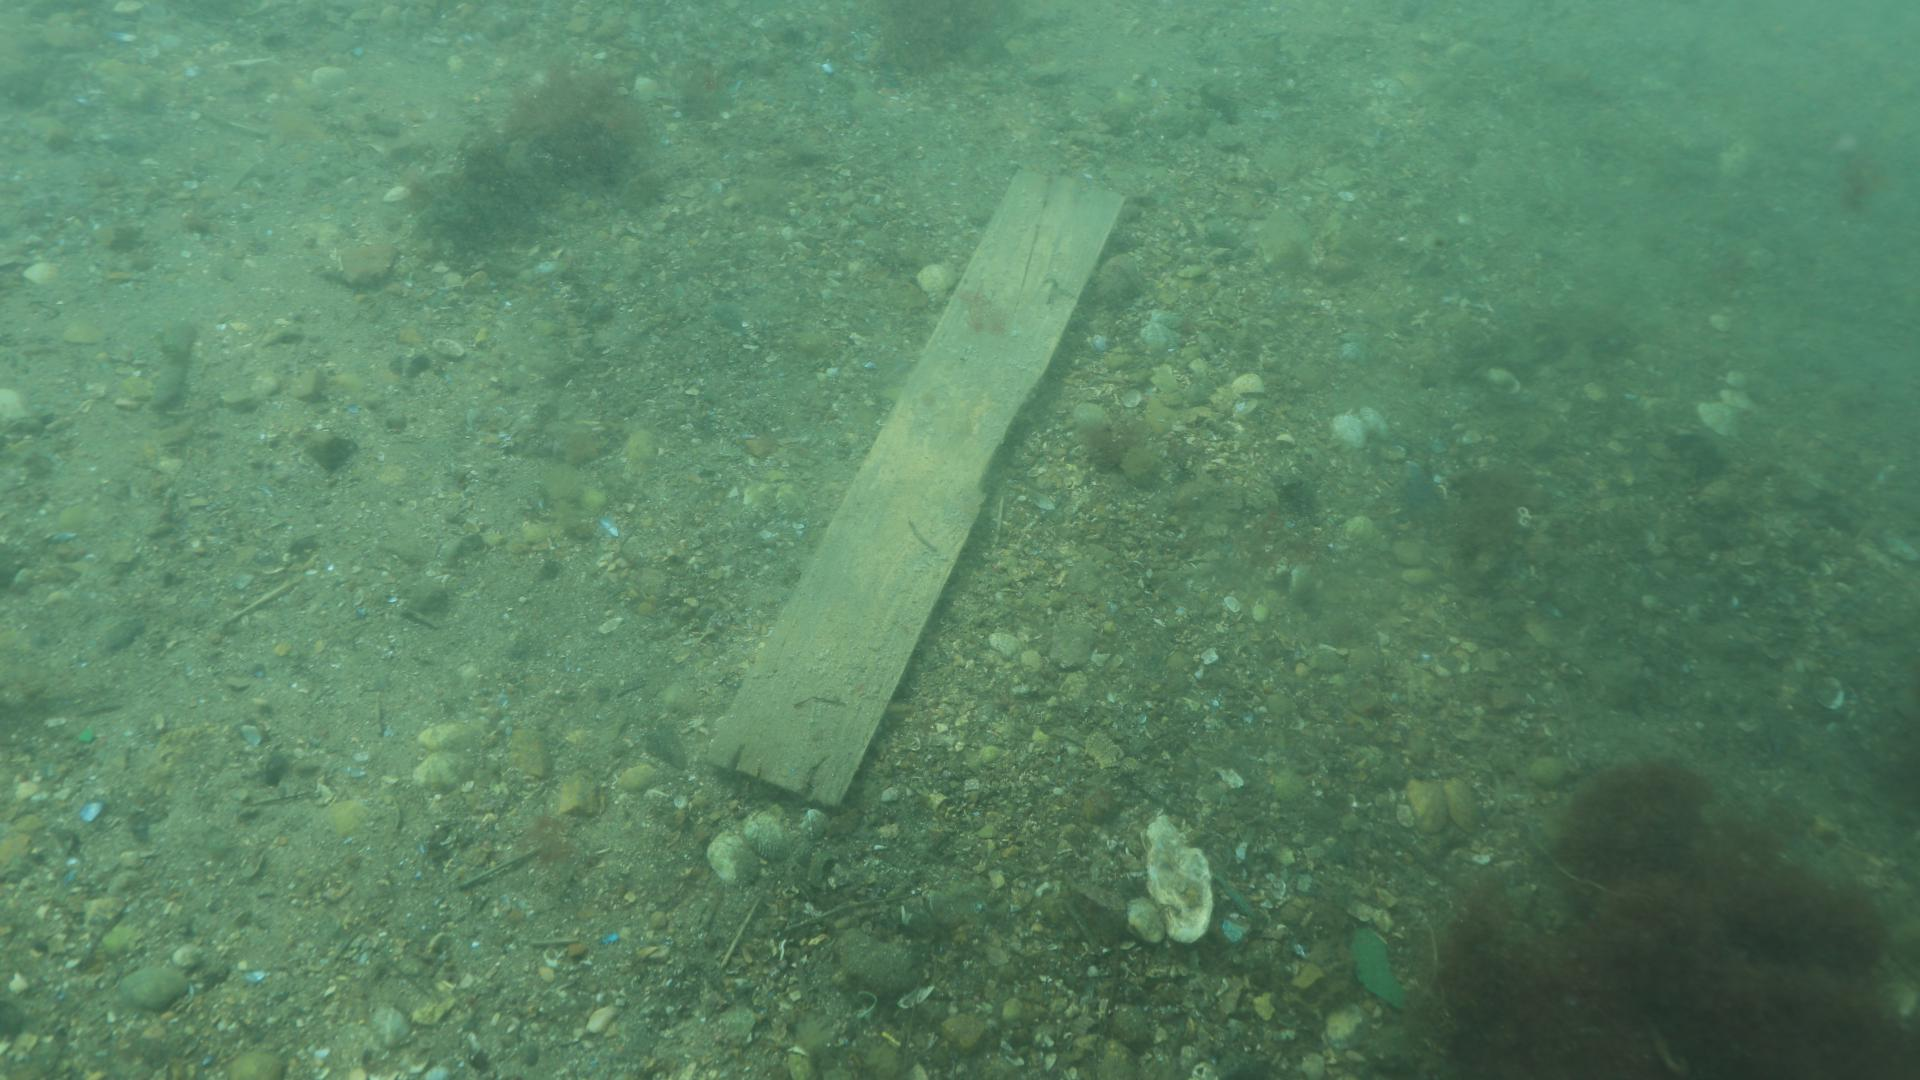wood: (700, 162, 1129, 812)
